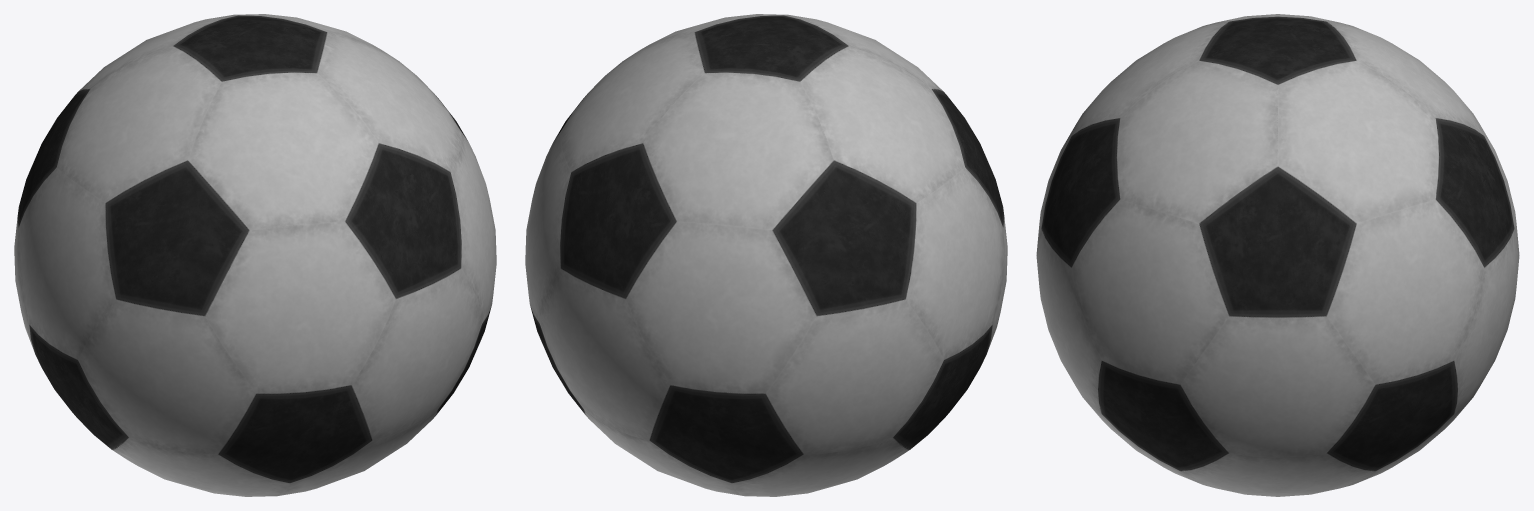
Rendered from SoccerBall.glb.
3 renders of one model, left to right at view 1: azimuth 30°, elevation 25°; view 2: azimuth 150°, elevation 25°; view 3: azimuth 270°, elevation 25°, orthographic.
Visible parts, largest first — view 1: Icosphere; view 2: Icosphere; view 3: Icosphere.
Boxes of the visible parts, <box> form: Icosphere: <box>14,14,496,496</box>; Icosphere: <box>525,14,1007,496</box>; Icosphere: <box>1036,14,1519,496</box>.
Size of the model in its own units: 167 by 167 by 167.
1 material, 1 textured.
